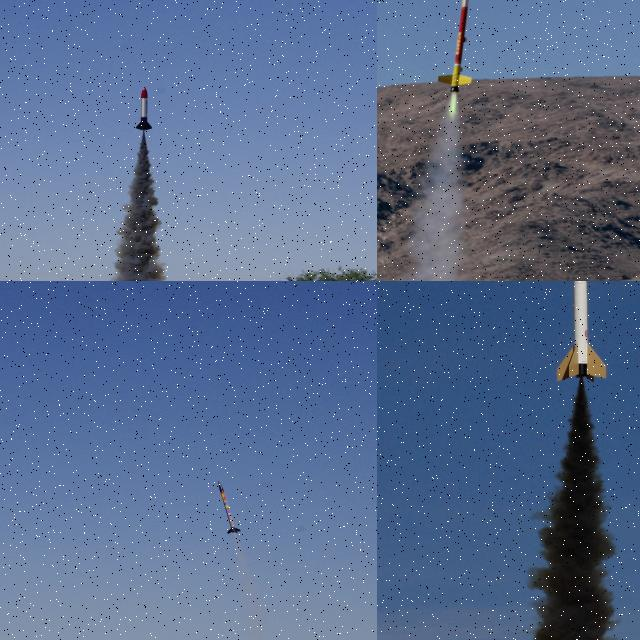Rocket: (554, 281, 608, 383), (436, 0, 473, 93), (218, 480, 241, 534), (136, 86, 152, 130)
